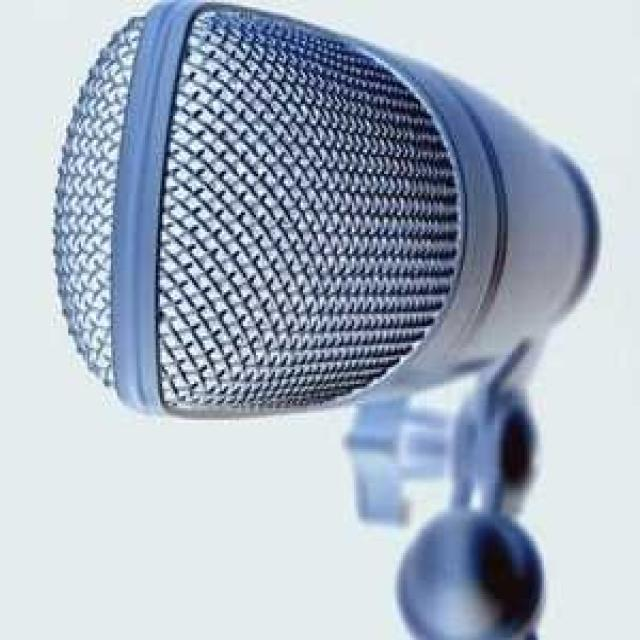microphone: (54, 0, 596, 425)
